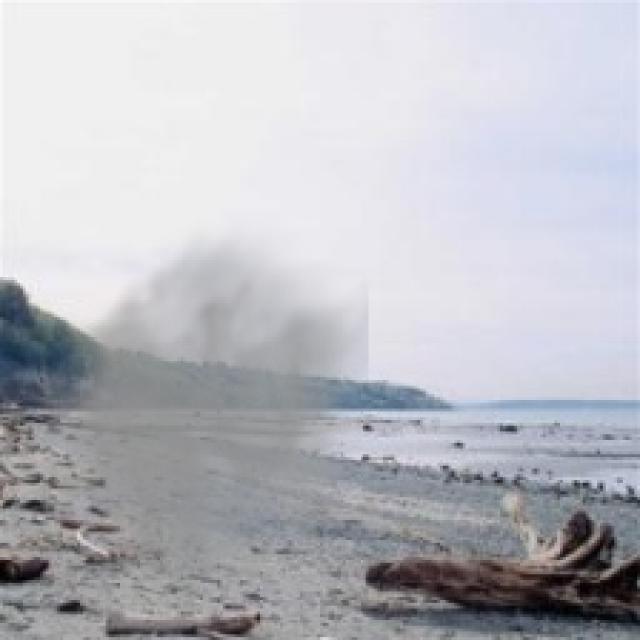smoke: (3, 215, 368, 614)
